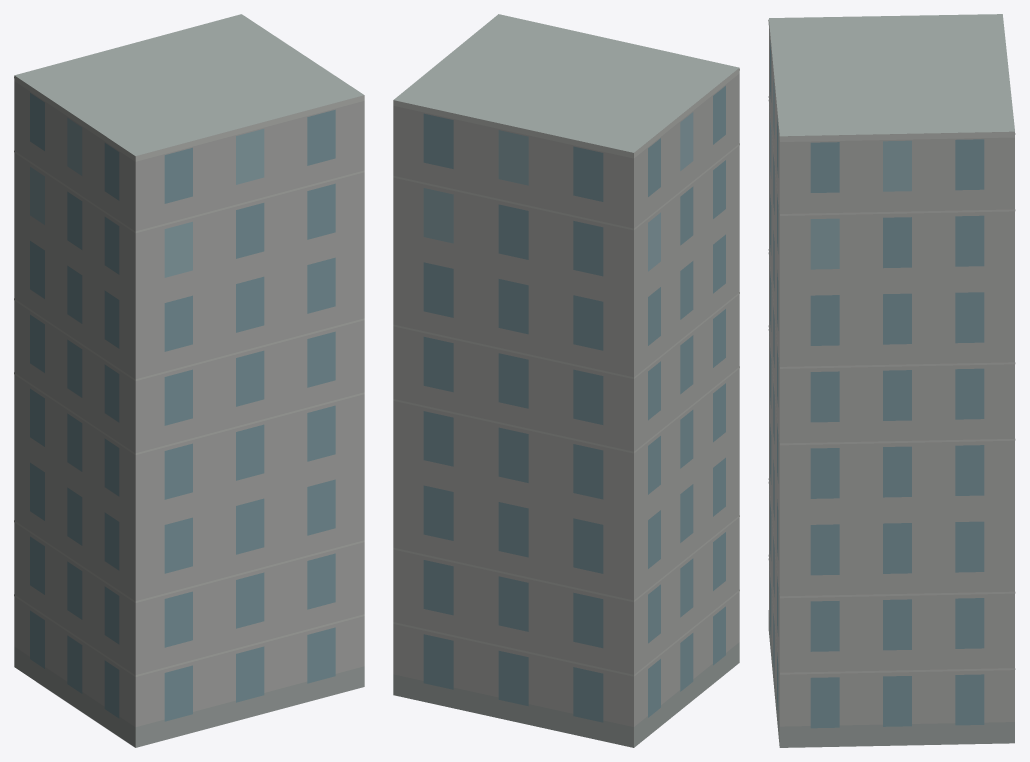
Rendered from survey-upis-32460717.glb.
The picture shows the model from 3 angles, left to right: view 1: azimuth 30°, elevation 25°; view 2: azimuth 150°, elevation 25°; view 3: azimuth 270°, elevation 25°; orthographic projection. The views are drawn at different scales.
Visible parts, largest first — view 1: survey-upis-32460717.tmp; view 2: survey-upis-32460717.tmp; view 3: survey-upis-32460717.tmp.
Boxes of the visible parts, x1,y1,x2,y2 form: survey-upis-32460717.tmp: [14, 14, 364, 747]; survey-upis-32460717.tmp: [393, 14, 739, 747]; survey-upis-32460717.tmp: [768, 14, 1015, 747].
Size of the model in its own units: 11.02 by 25.65 by 9.39.
